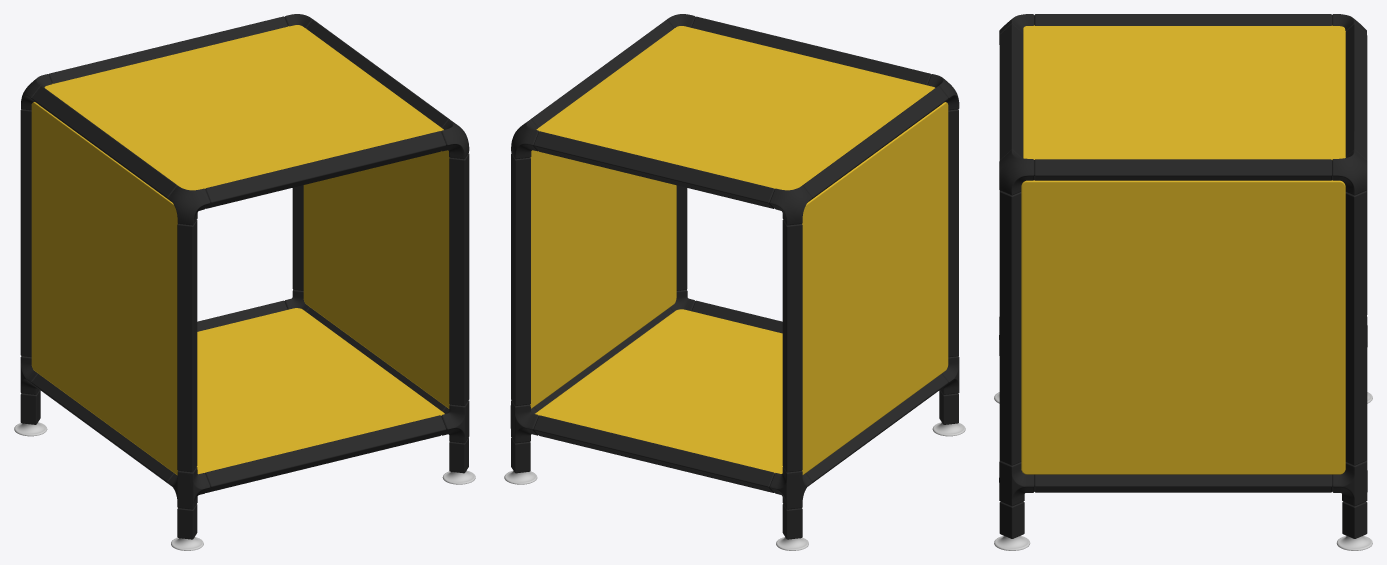
3 renders of one model, left to right at view 1: azimuth 30°, elevation 25°; view 2: azimuth 150°, elevation 25°; view 3: azimuth 270°, elevation 25°, orthographic. The views are drawn at different scales.
Visible parts, largest first — view 1: 329x329x329; view 2: 329x329x329; view 3: 329x329x329.
Boxes of the visible parts, bbox=[...] form: 329x329x329: bbox=[14, 14, 475, 550]; 329x329x329: bbox=[504, 14, 965, 550]; 329x329x329: bbox=[994, 14, 1372, 550].
Size of the model in its own units: 0.4189 by 0.4683 by 0.4182.
